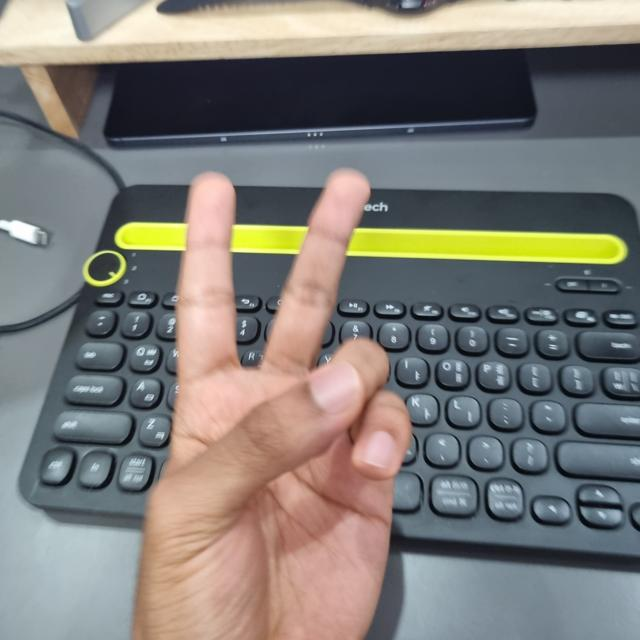Scissors: (123, 175, 406, 639)
